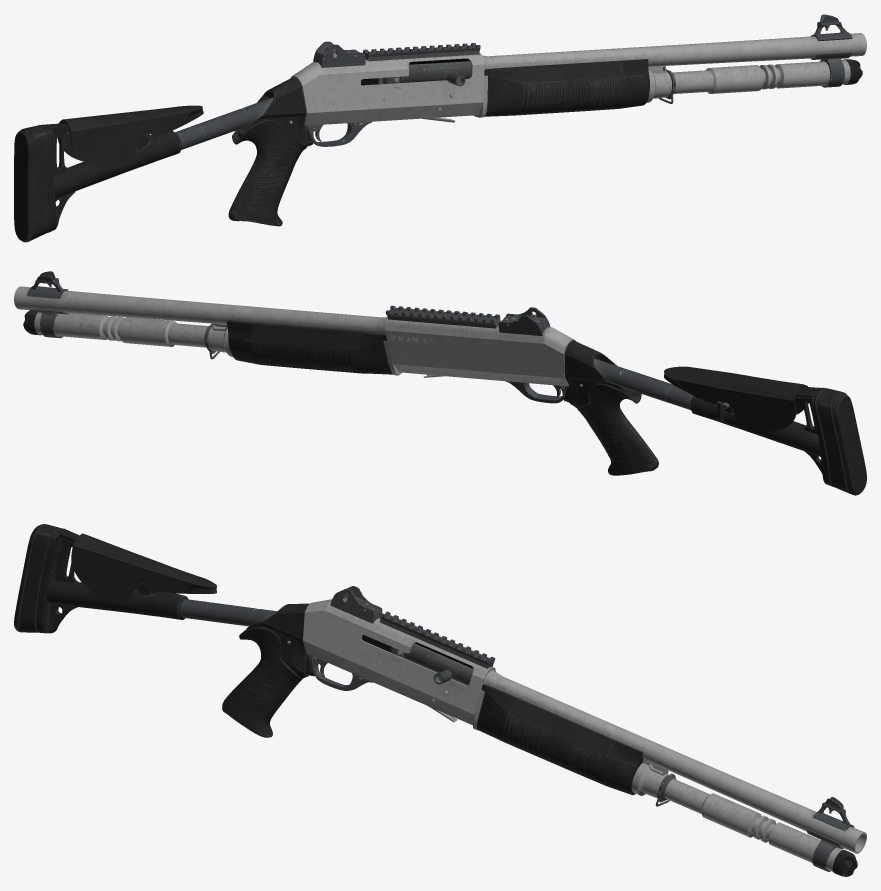
The model's file is benelli-m4.glb.
The picture shows the model from 3 angles, top to bottom: view 1: azimuth 30°, elevation 25°; view 2: azimuth 150°, elevation 25°; view 3: azimuth 330°, elevation 25°; orthographic projection.
Visible parts, largest first — view 1: Shotgun_M4_Silver; view 2: Shotgun_M4_Silver; view 3: Shotgun_M4_Silver.
Boxes of the visible parts, <box> form: Shotgun_M4_Silver: <box>14,14,866,242</box>; Shotgun_M4_Silver: <box>14,271,866,495</box>; Shotgun_M4_Silver: <box>14,524,866,876</box>.
Size of the model in its own units: 3.73 by 0.6599 by 0.203.
Materials: 1 (1 with a texture image).
